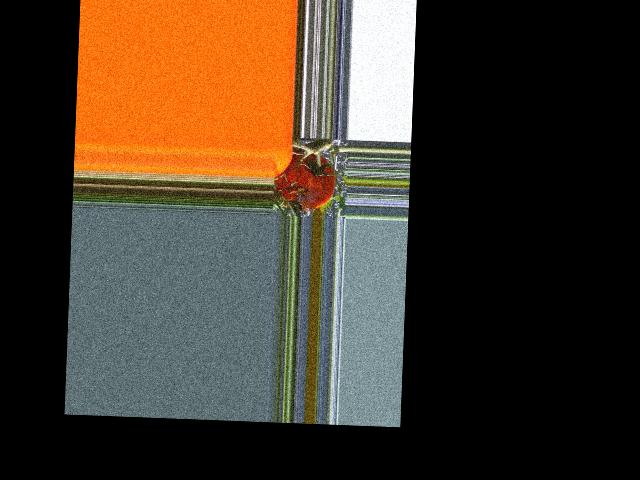tomato: (274, 152, 336, 211)
